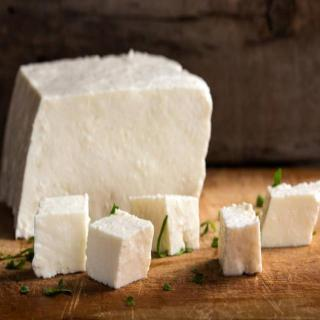Tahu: (2, 44, 210, 241), (31, 184, 207, 300), (215, 180, 320, 278)
